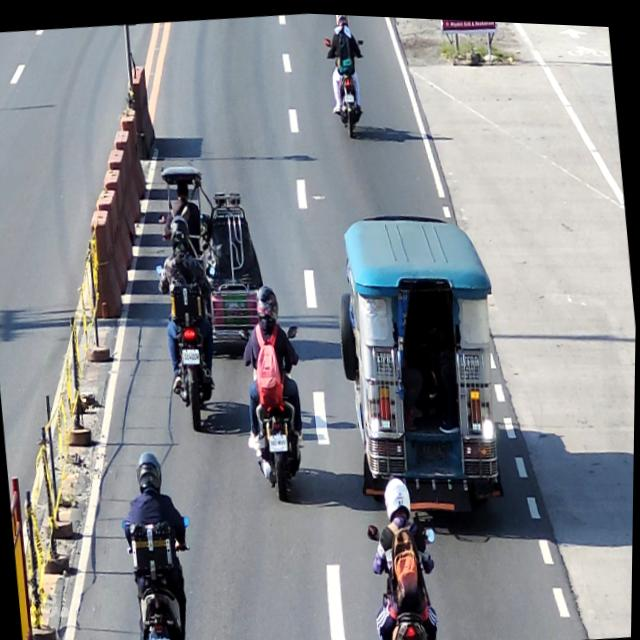Jeep: (327, 198, 516, 519)
License-Plate: (416, 433, 452, 463), (270, 429, 289, 451), (181, 345, 202, 364), (150, 633, 174, 640), (343, 90, 355, 99)
Motorcycle: (236, 315, 316, 503), (155, 256, 232, 434), (121, 507, 205, 640), (365, 513, 449, 640), (323, 28, 374, 138)
Tricycle: (151, 154, 273, 361)
